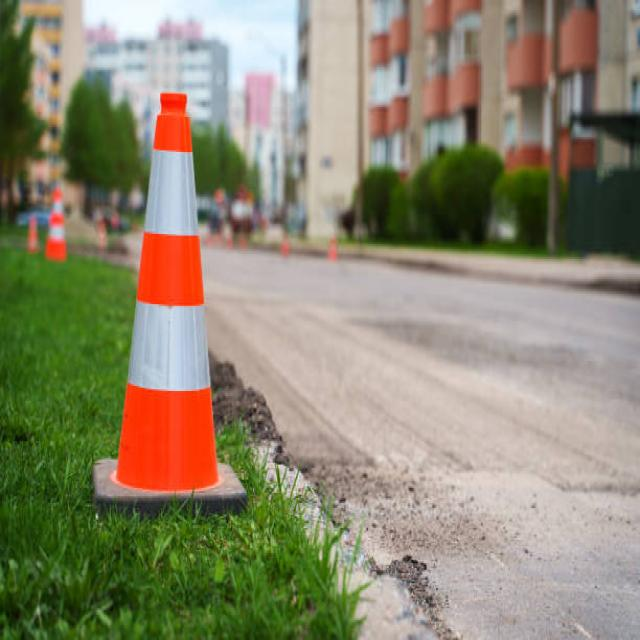Traffic Cone: (72, 63, 271, 544)
